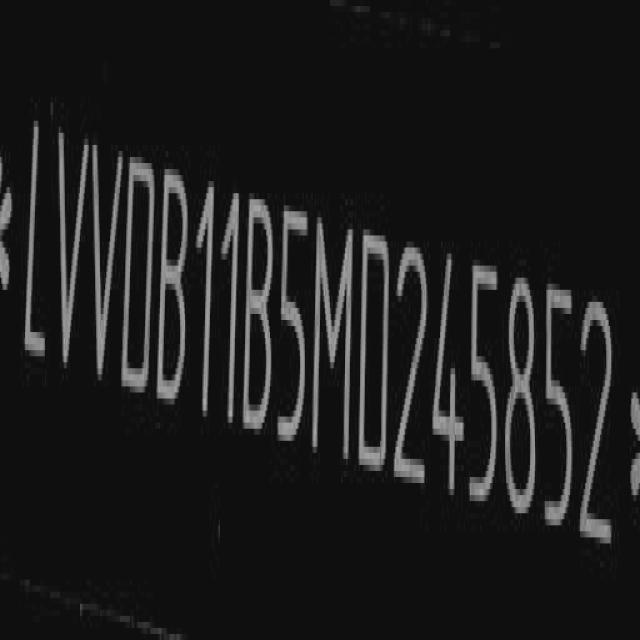1: (197, 174, 219, 431), (220, 179, 241, 443)
2: (394, 228, 431, 502), (580, 288, 618, 552)
4: (431, 242, 465, 513)
5: (468, 252, 501, 517), (280, 194, 312, 462), (545, 274, 577, 538)
8: (506, 264, 540, 522)
B: (156, 160, 190, 412), (244, 188, 275, 452)
D: (358, 219, 393, 490), (124, 148, 156, 403)
L: (21, 118, 48, 387)
M: (312, 203, 356, 475)
V: (54, 115, 89, 383), (92, 130, 125, 399)
